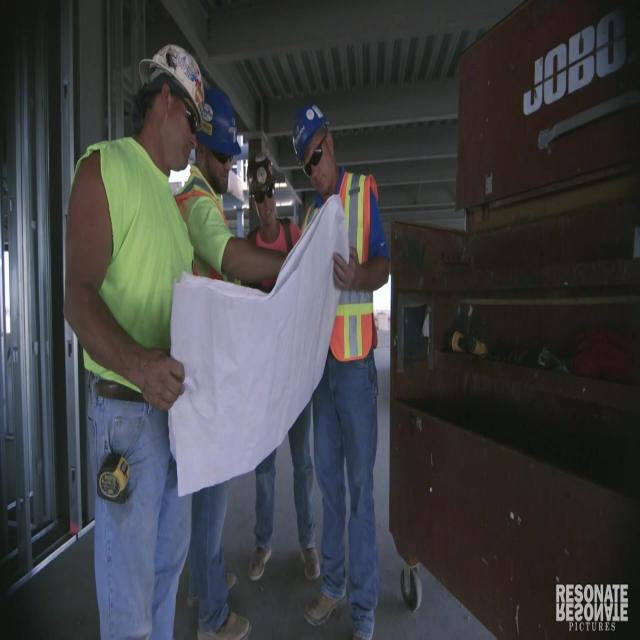Reflective-Jacket: (300, 168, 392, 370), (170, 165, 244, 292)
Safety-Helmet: (134, 36, 212, 124), (192, 84, 244, 164), (286, 94, 338, 169), (244, 146, 281, 204)
